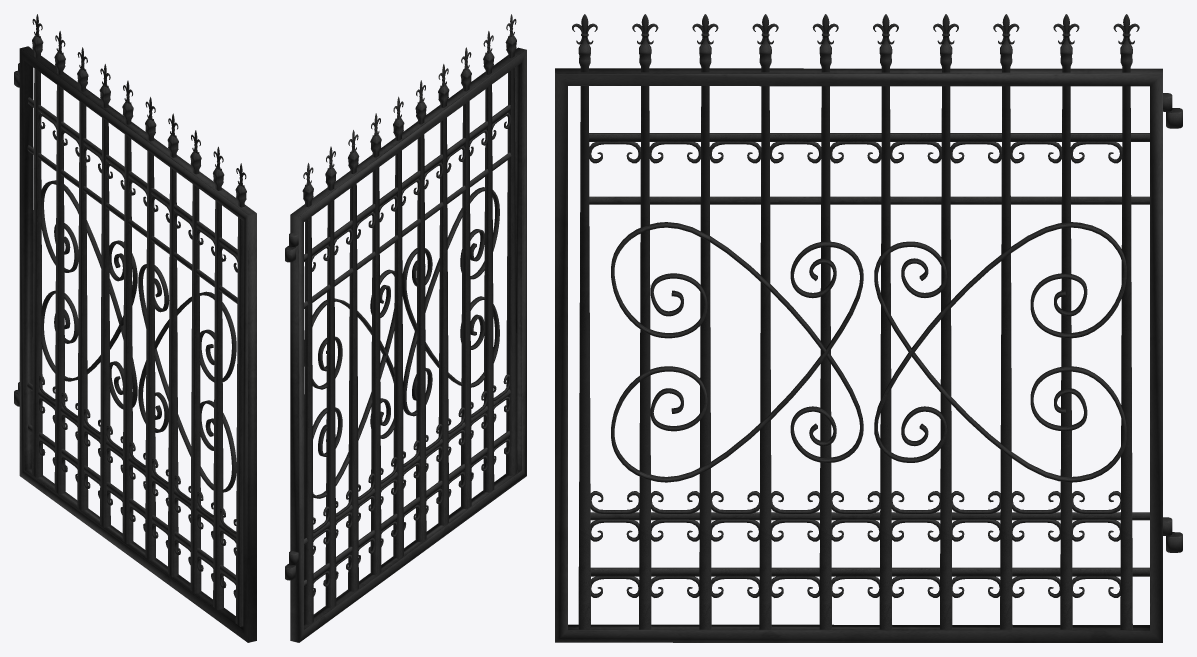
File: railingGate.glb
3 views of the same model, side by side, from view 1: azimuth 30°, elevation 25°; view 2: azimuth 150°, elevation 25°; view 3: azimuth 270°, elevation 25° (orthographic). The views are drawn at different scales.
Parts seen in each view (by area): view 1: Fence_01_Gate_LOD0.001_Fence_01_Gate_0; view 2: Fence_01_Gate_LOD0.001_Fence_01_Gate_0; view 3: Fence_01_Gate_LOD0.001_Fence_01_Gate_0.
Part boxes in pixels (left/top/right/bottom): Fence_01_Gate_LOD0.001_Fence_01_Gate_0: left=14, top=14, right=256, bottom=642; Fence_01_Gate_LOD0.001_Fence_01_Gate_0: left=285, top=14, right=526, bottom=642; Fence_01_Gate_LOD0.001_Fence_01_Gate_0: left=555, top=14, right=1182, bottom=642.
Bounding box in the file's own units: 0.0596 × 2.77 × 2.52.
1 material, 1 textured.
